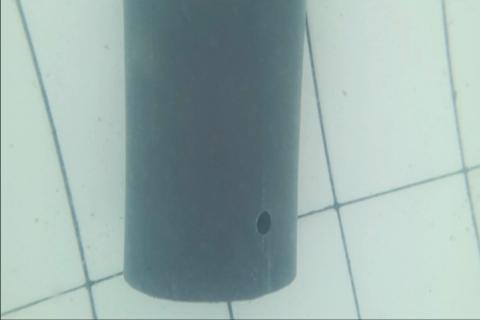kebocoran: (256, 210, 272, 236)
